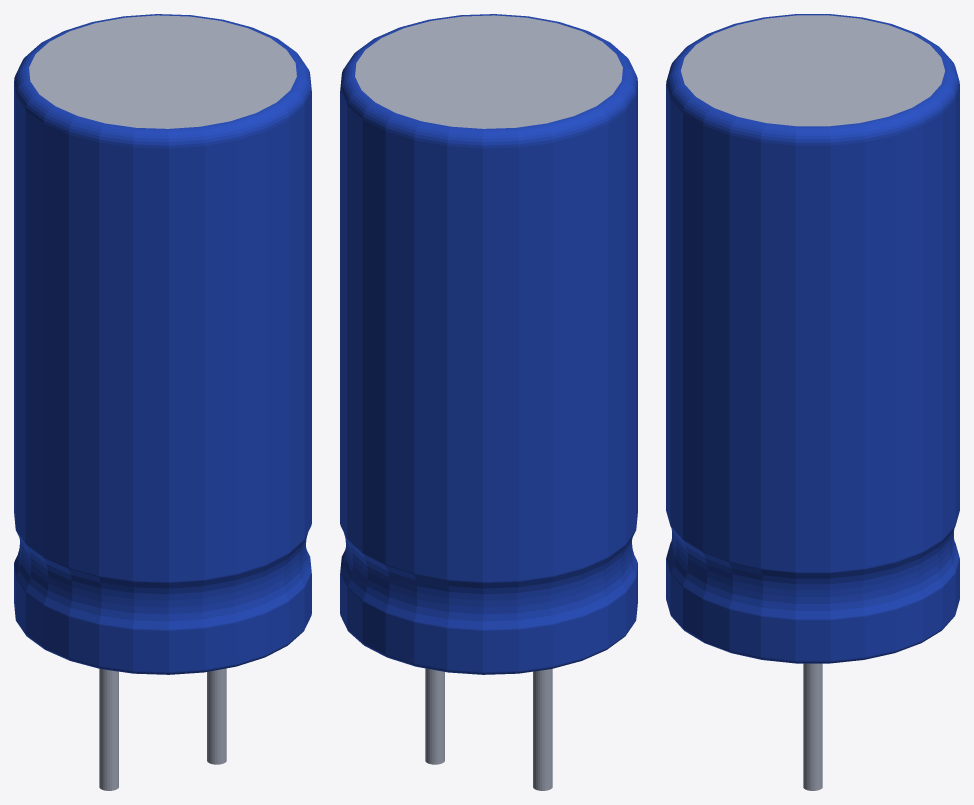
File: 08_Alum_P2p5mmXDia6mmXHei12mm.obj
3 views of the same model, side by side, from view 1: azimuth 30°, elevation 25°; view 2: azimuth 150°, elevation 25°; view 3: azimuth 270°, elevation 25° (orthographic).
Parts seen in each view (by area): view 1: 08_Alum_P2p5mmXDia6mmXHei12mm; view 2: 08_Alum_P2p5mmXDia6mmXHei12mm; view 3: 08_Alum_P2p5mmXDia6mmXHei12mm.
Part boxes in pixels (x1=…): 08_Alum_P2p5mmXDia6mmXHei12mm: x1=14, y1=14, x2=311, y2=790; 08_Alum_P2p5mmXDia6mmXHei12mm: x1=340, y1=14, x2=637, y2=790; 08_Alum_P2p5mmXDia6mmXHei12mm: x1=666, y1=14, x2=959, y2=790.
Bounding box in the file's own units: 0.00715 × 0.0187 × 0.0072.
